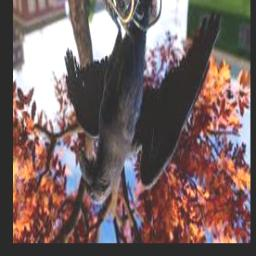Crow: (64, 0, 221, 203)
